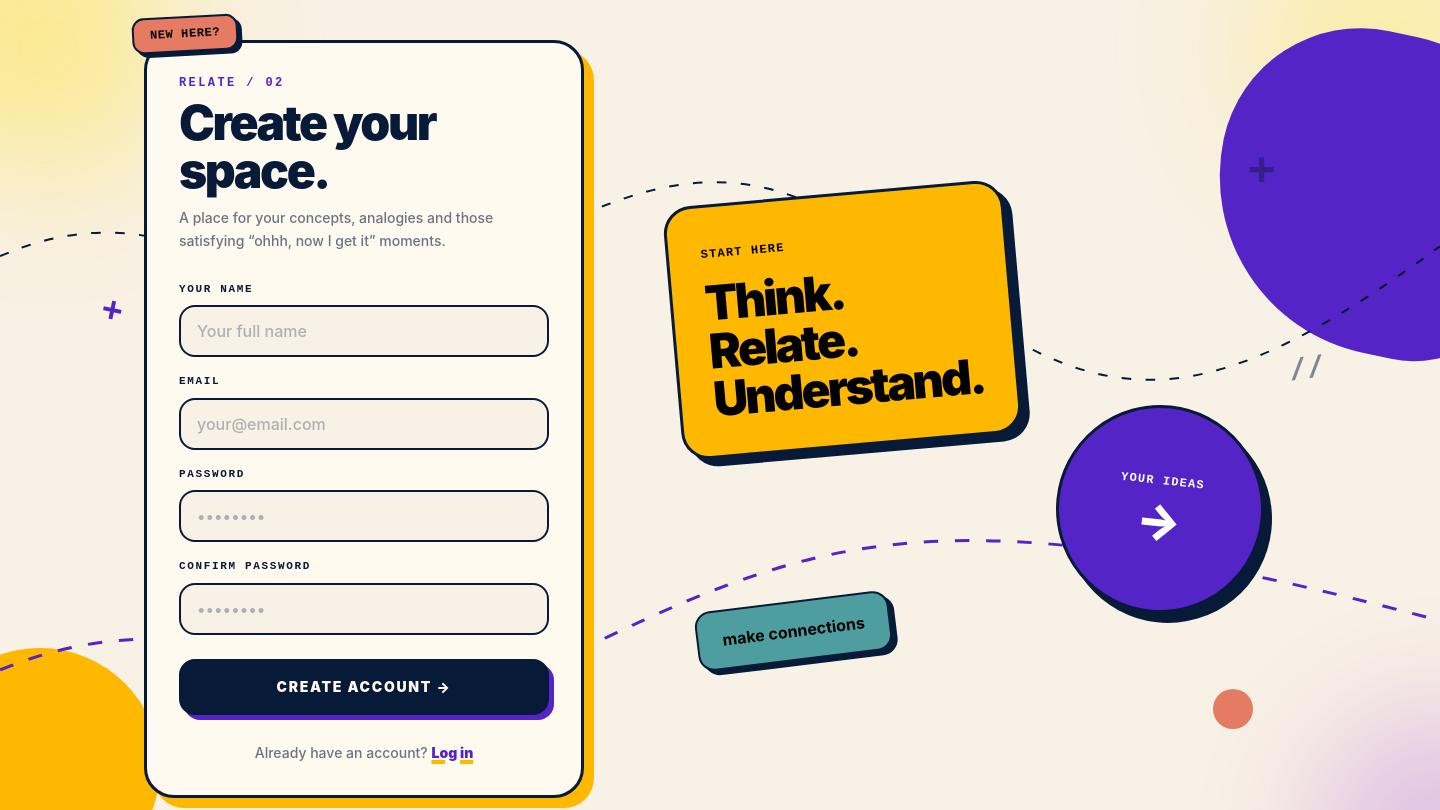
Test: RegisterPage › inline validation - empty fields › should display inline error when password field is empty at submission
Type "Test User" into the field labelled "Your name".
click(364, 331); type("Test User")  # box [179,305,549,357]
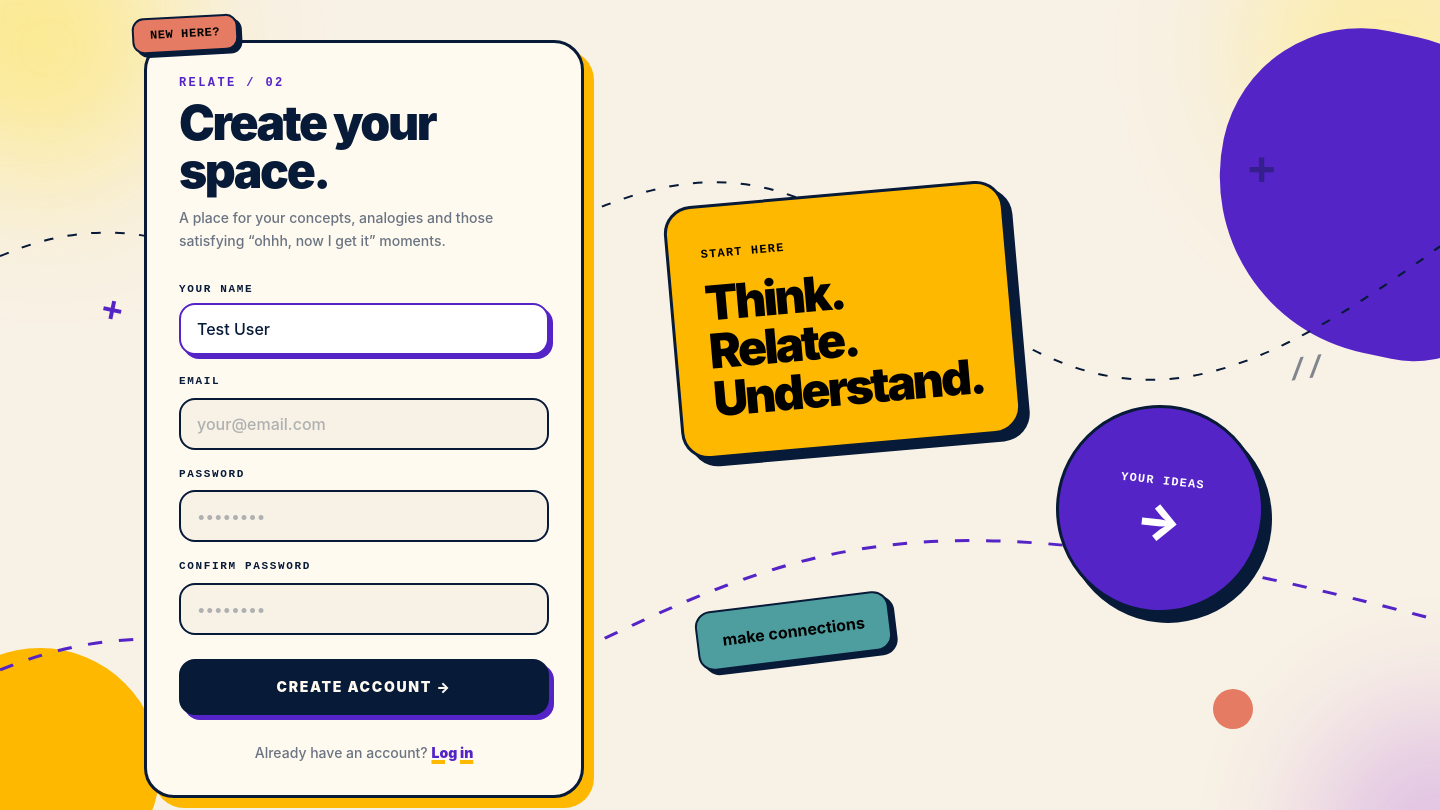
Type "test@test.com" into the field labelled "Email".
click(364, 424); type("test@test.com")  # box [179,398,549,450]
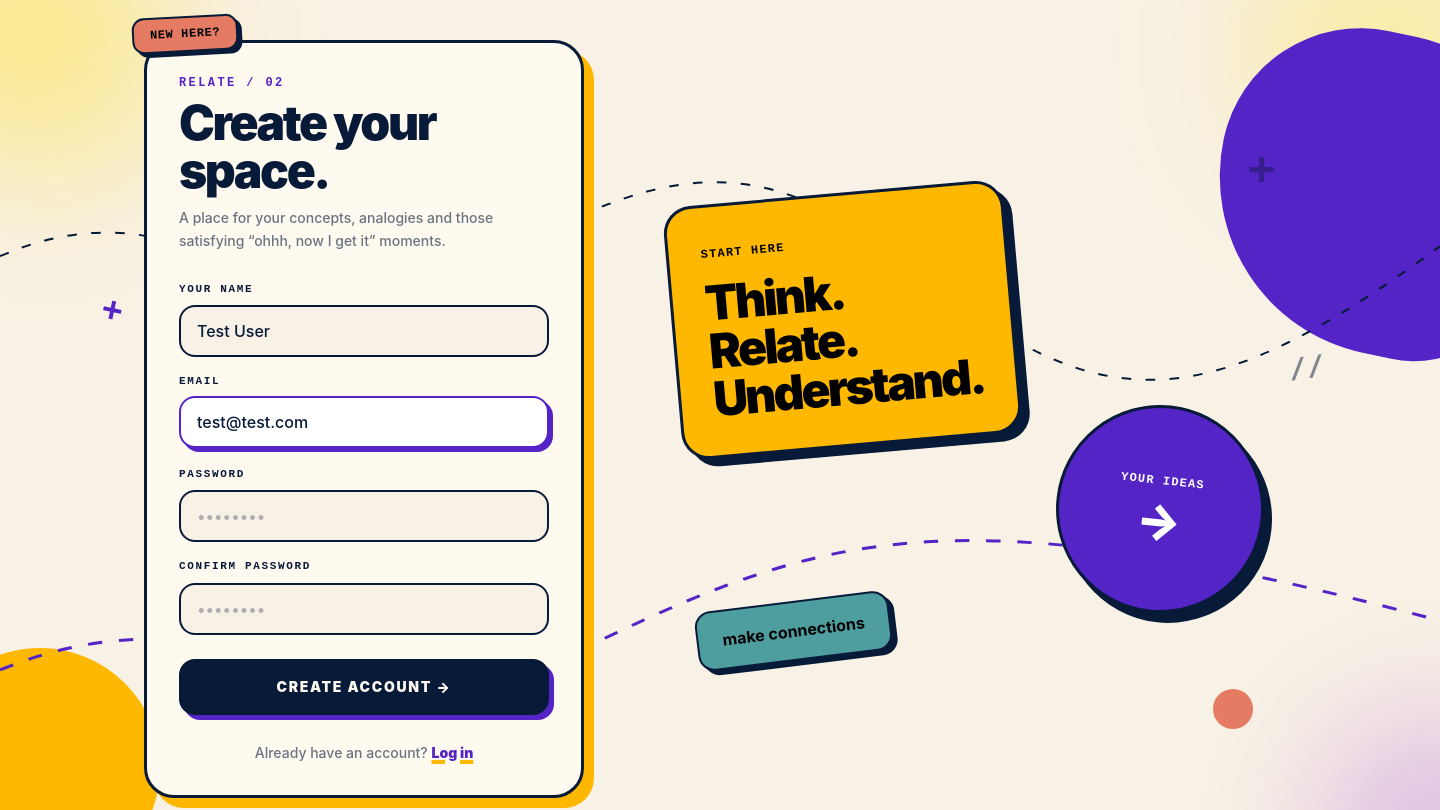
Type "password123" into the password field labelled "Confirm password".
click(364, 608); type("password123")  # box [179,582,549,634]
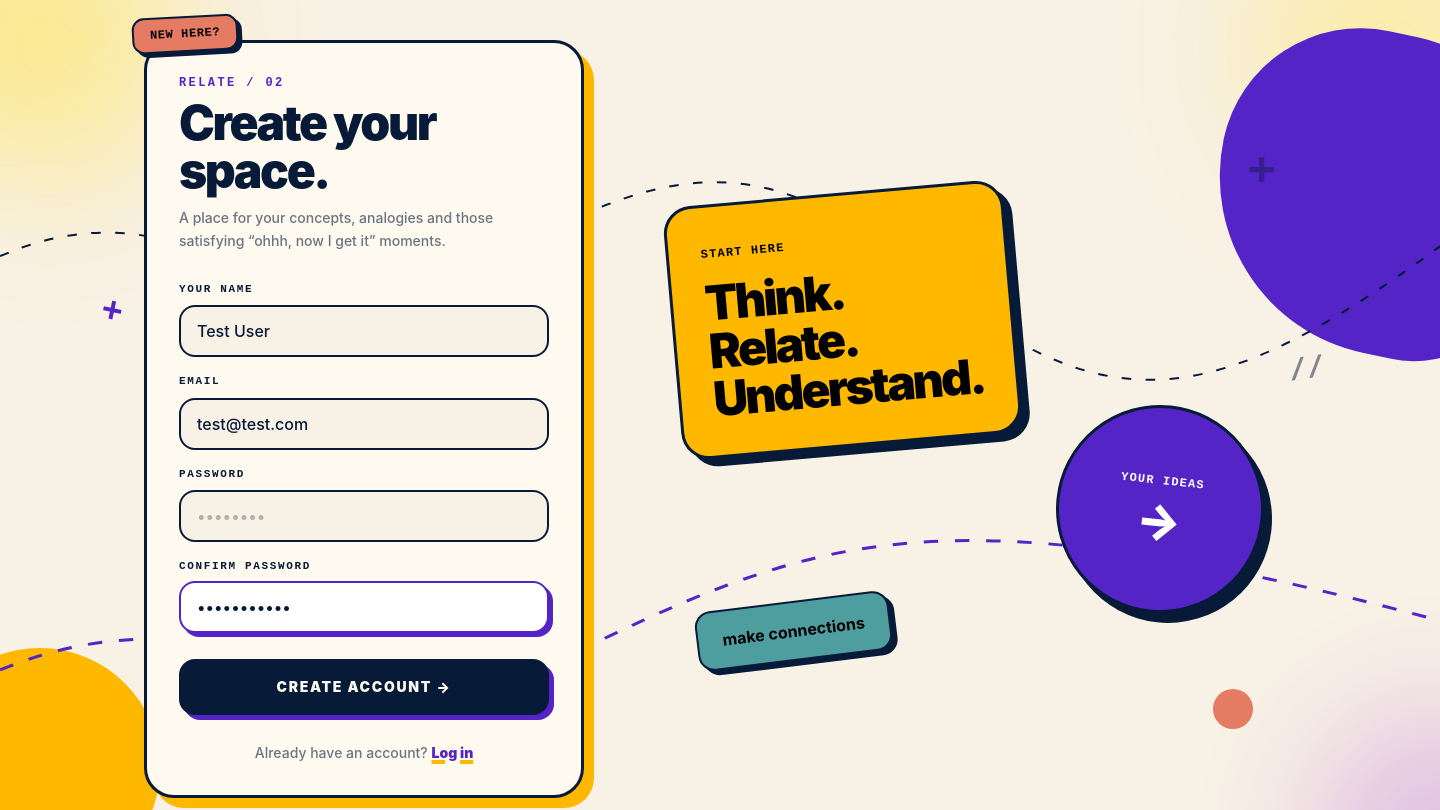
Click the button "Create account →".
click(364, 686)  # box [179,658,549,714]
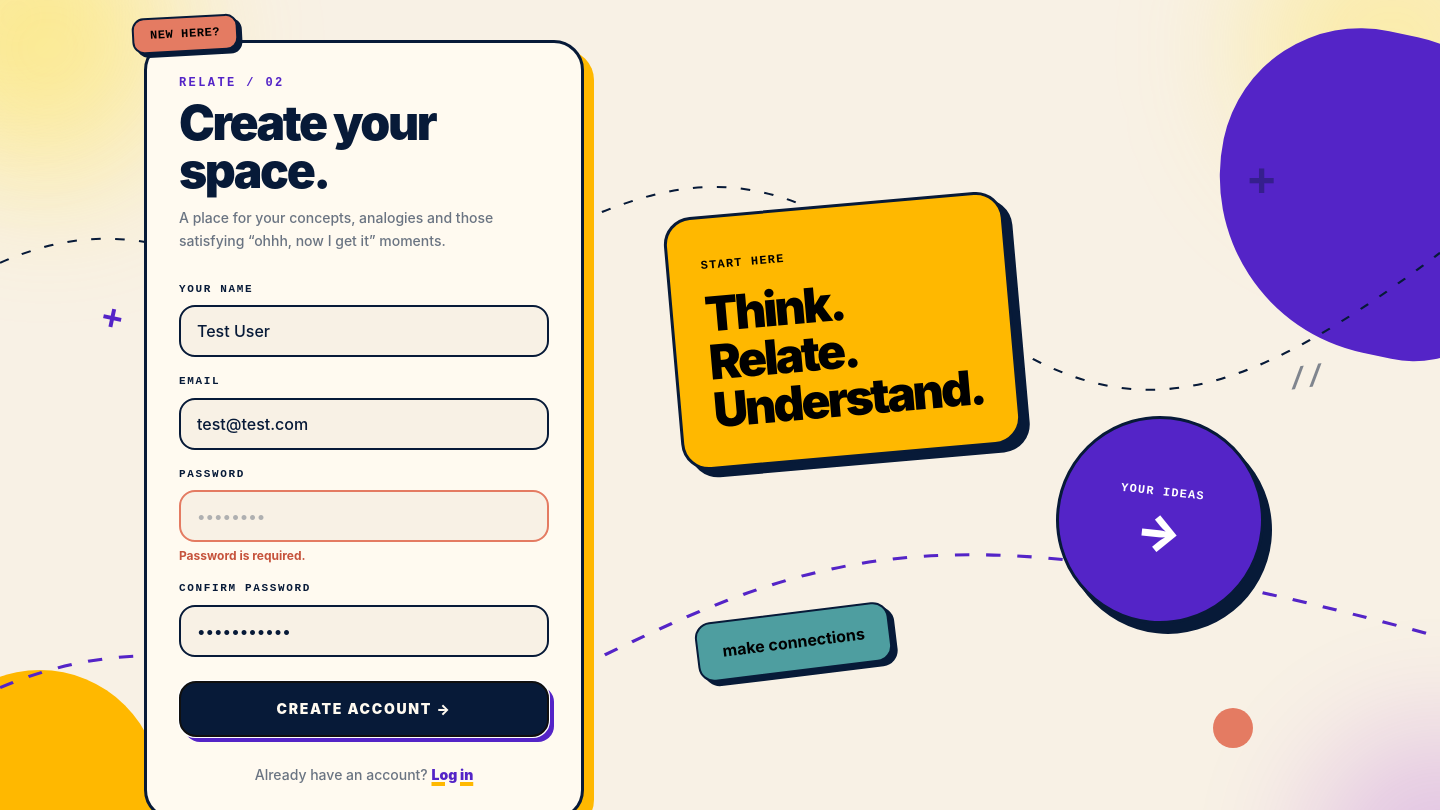
Check: the text "Password is required." is shown, box [179,548,306,563]
